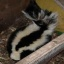skunk: (7, 9, 55, 61)
